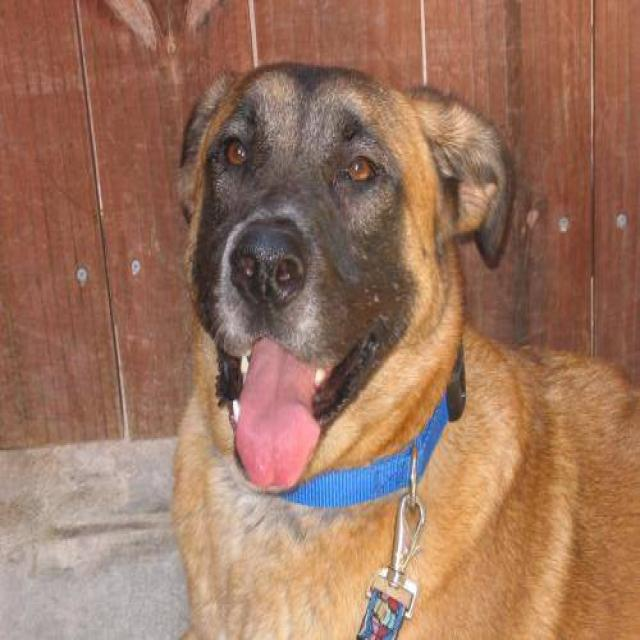Dog: (150, 42, 537, 508)
